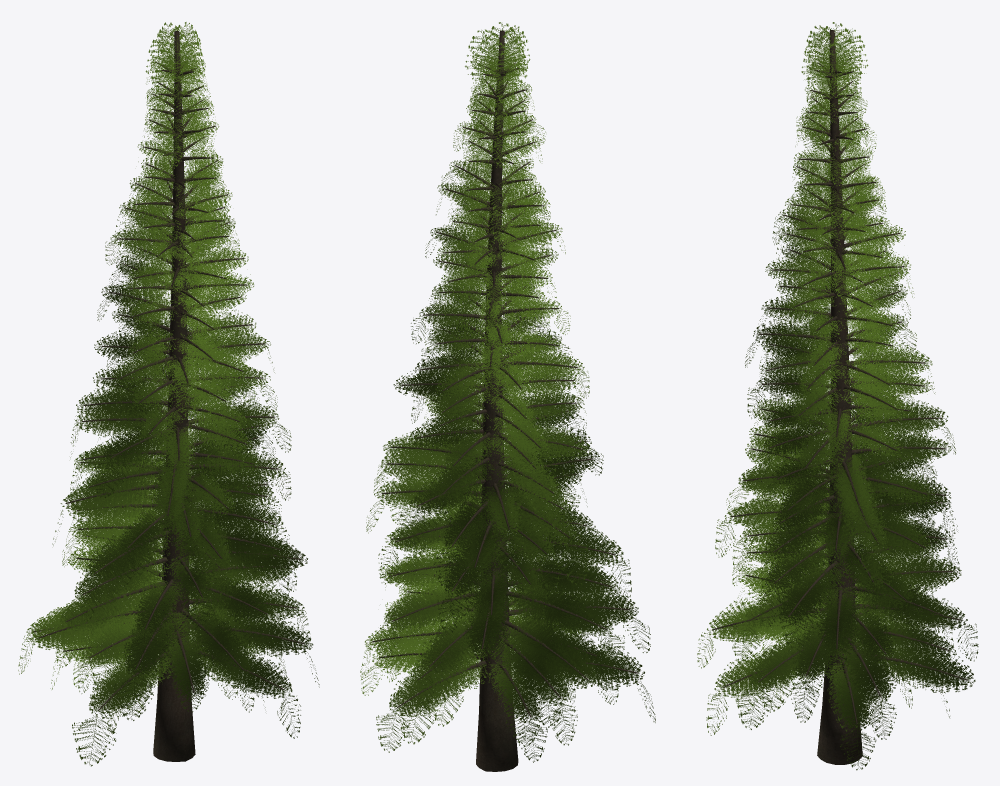
File: larch_sparse_v01.fbx
3 renders of one model, left to right at view 1: azimuth 30°, elevation 25°; view 2: azimuth 150°, elevation 25°; view 3: azimuth 270°, elevation 25°, orthographic.
Visible parts, largest first — view 1: larch_sparse_v01; view 2: larch_sparse_v01; view 3: larch_sparse_v01.
Boxes of the visible parts, bbox=[...] form: larch_sparse_v01: bbox=[18, 22, 319, 766]; larch_sparse_v01: bbox=[360, 22, 655, 771]; larch_sparse_v01: bbox=[697, 22, 978, 770].
Bounding box in the file's own units: 537 × 516 × 1421.
2 materials, 2 textured.
